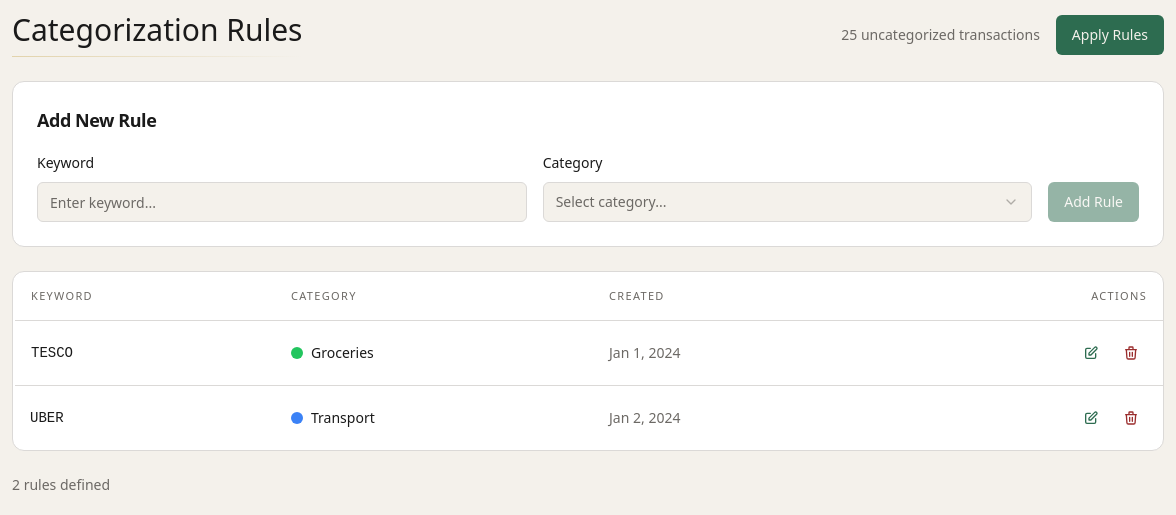
Test: RulesPage › cancels editing
The width and height of the screenshot is (1176, 515).
Expected: the text "TESCO" is shown, [31,345,73,361]
Note: Click edit button
Click the button titled "Edit rule" in the row of "TESCO" at (1091, 352), box [1075,336,1107,368]
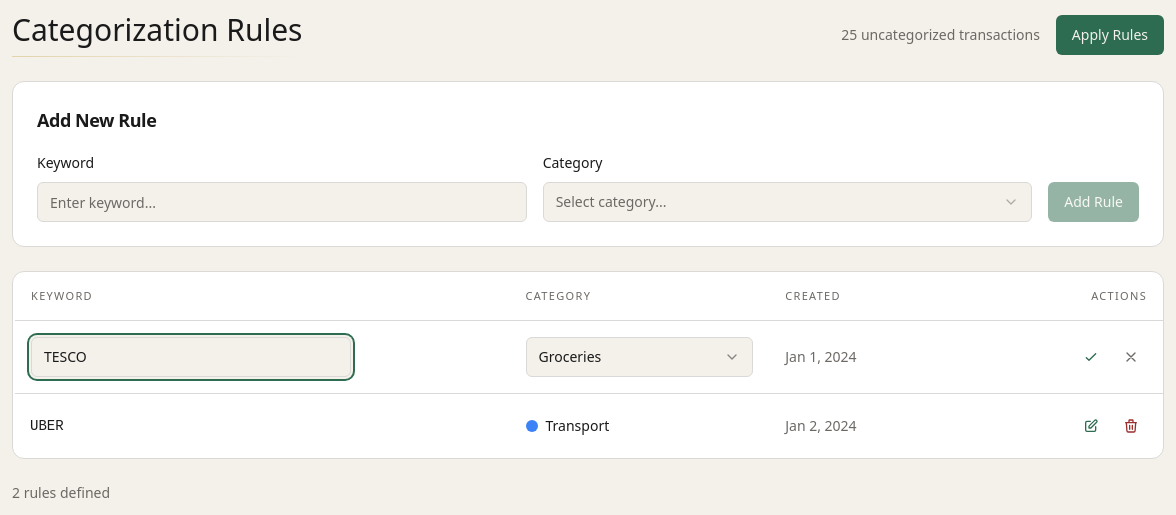
Expected: the field showing "TESCO" is shown, [31,336,351,376]
Click the 4th button at (1131, 356), box [1115,340,1147,372]
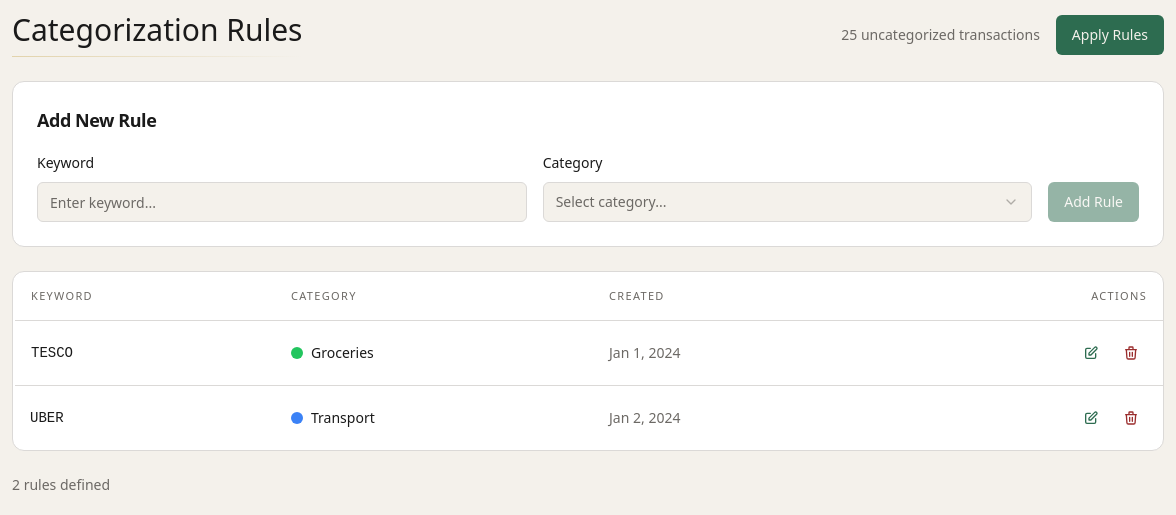
Expected: the text "TESCO" is shown, [31,345,73,361]
